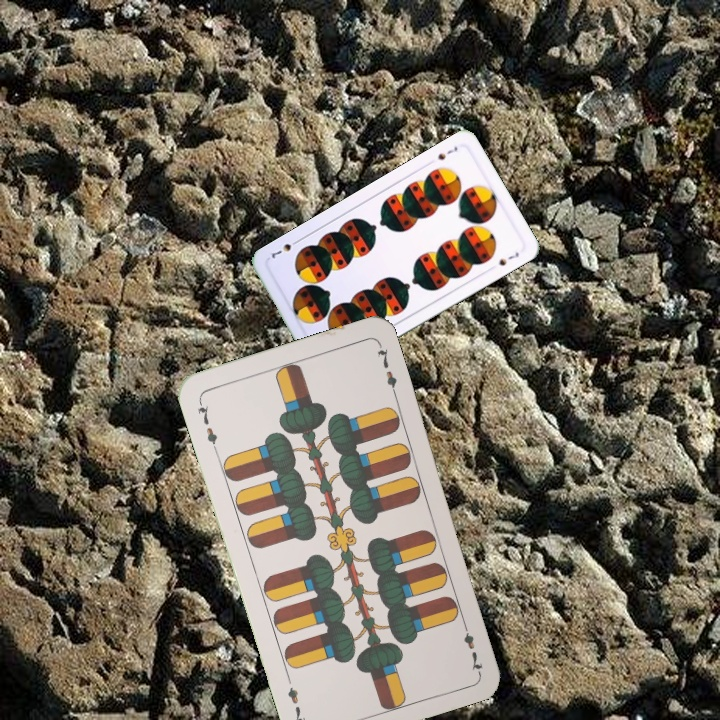E7: (193, 396, 220, 454), (458, 617, 485, 675)
S7: (434, 142, 460, 163)
